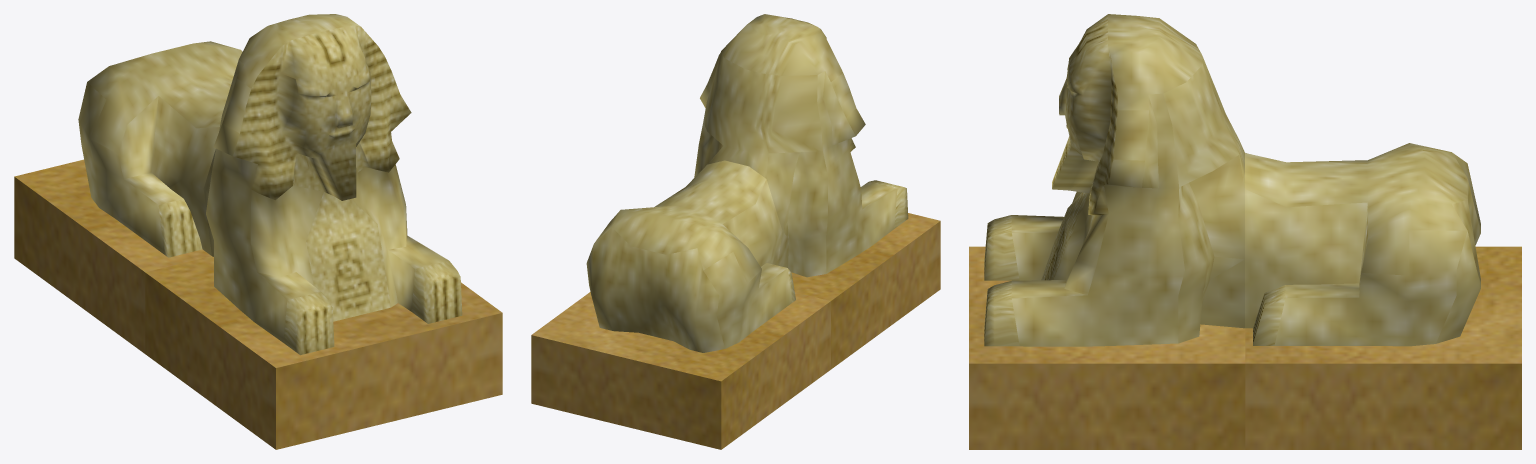
The model's file is egy_sphinx.obj.
The picture shows the model from 3 angles, left to right: view 1: azimuth 30°, elevation 25°; view 2: azimuth 150°, elevation 25°; view 3: azimuth 270°, elevation 25°; orthographic projection. The views are drawn at different scales.
Bounding box in the file's own units: 1 × 1.45 × 2.
1 material, 1 textured.
